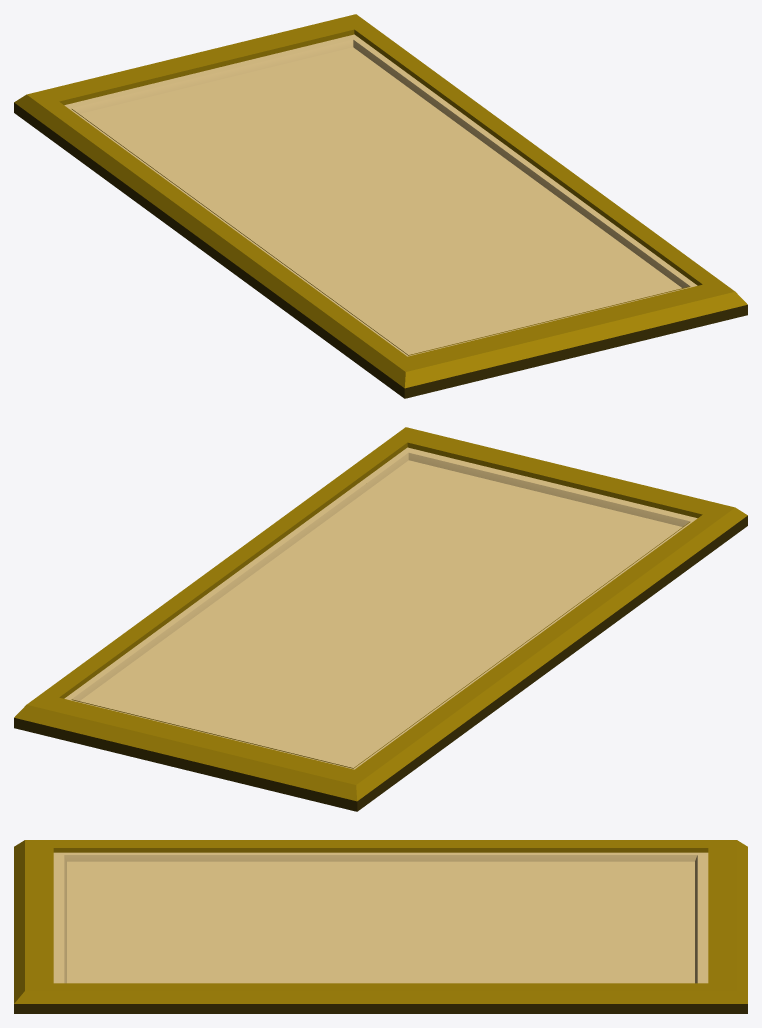
File: schilderijv4.fbx
3 renders of one model, top to bottom at view 1: azimuth 30°, elevation 25°; view 2: azimuth 150°, elevation 25°; view 3: azimuth 270°, elevation 25°, orthographic. The views are drawn at different scales.
Parts seen in each view (by area): view 1: pPlane1, pPipe1; view 2: pPlane1, pPipe1; view 3: pPlane1, pPipe1.
Part boxes in pixels (x1,y1,x2,y2): pPlane1: (79,47,681,354); pPipe1: (14,14,747,398); pPlane1: (80,460,682,767); pPipe1: (14,427,747,811); pPlane1: (67,861,694,983); pPipe1: (14,840,747,1013).
Bounding box in the file's own units: 6.25 × 0.3639 × 12.32.
